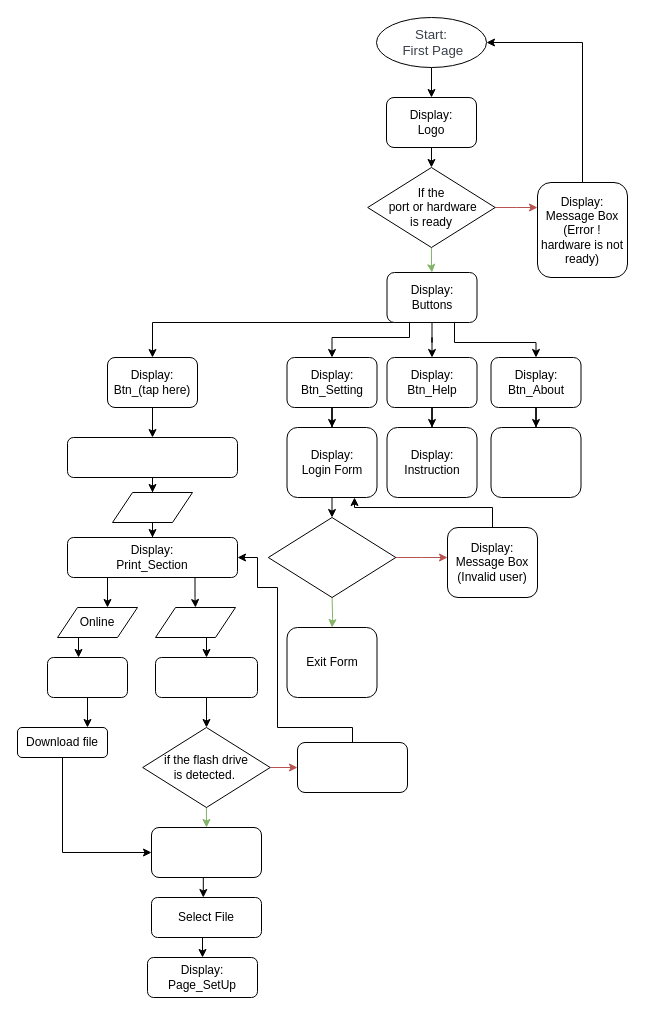
Image size: 645x1015. Some labels were removed from this diagram. The box of each missing label's shape, as (x1, y1, x2, y2) in pixels:
Display: Action_Option: (66, 436, 238, 478)
Display: File manager: (150, 826, 262, 878)
Display: Gmail: (46, 656, 128, 698)
Display: Information about the device: (490, 426, 581, 498)
Display: No flash drive was detected.: (296, 742, 408, 792)
Display: Offline_Flashdrive: (154, 656, 258, 698)
If its match: (267, 516, 396, 598)
Offline: (154, 606, 236, 638)
print: (112, 492, 192, 522)
